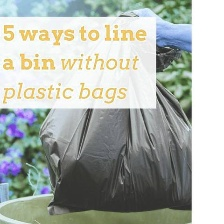plastic_bag: (36, 6, 219, 218)
